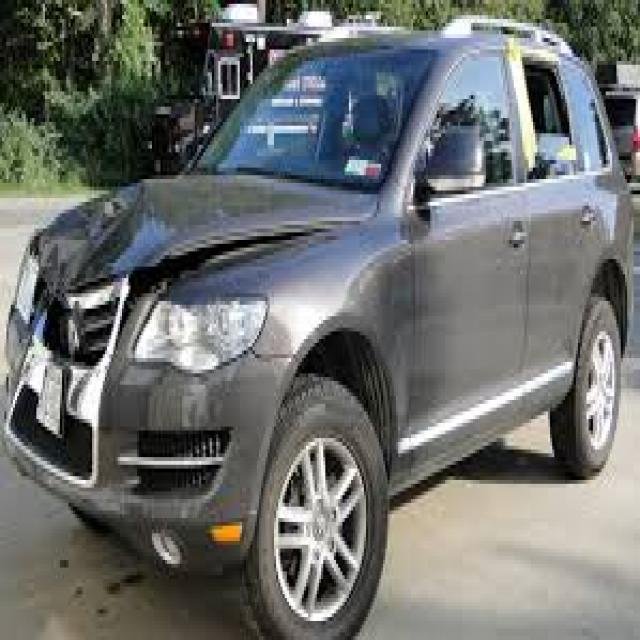minor: (11, 129, 183, 361)
